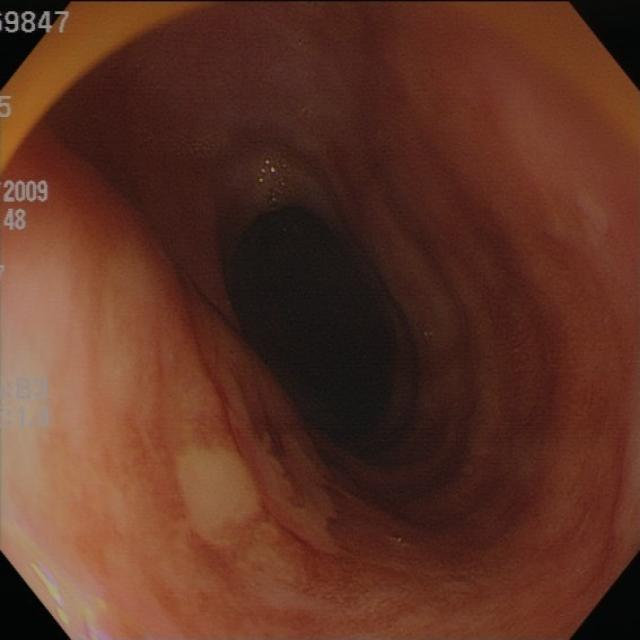E: (217, 194, 433, 468)
J: (157, 424, 346, 606)
S: (2, 375, 53, 428), (2, 8, 72, 33), (2, 176, 51, 201), (4, 206, 28, 230), (2, 91, 14, 118)
T: (255, 152, 293, 214)
U: (18, 542, 114, 640)
